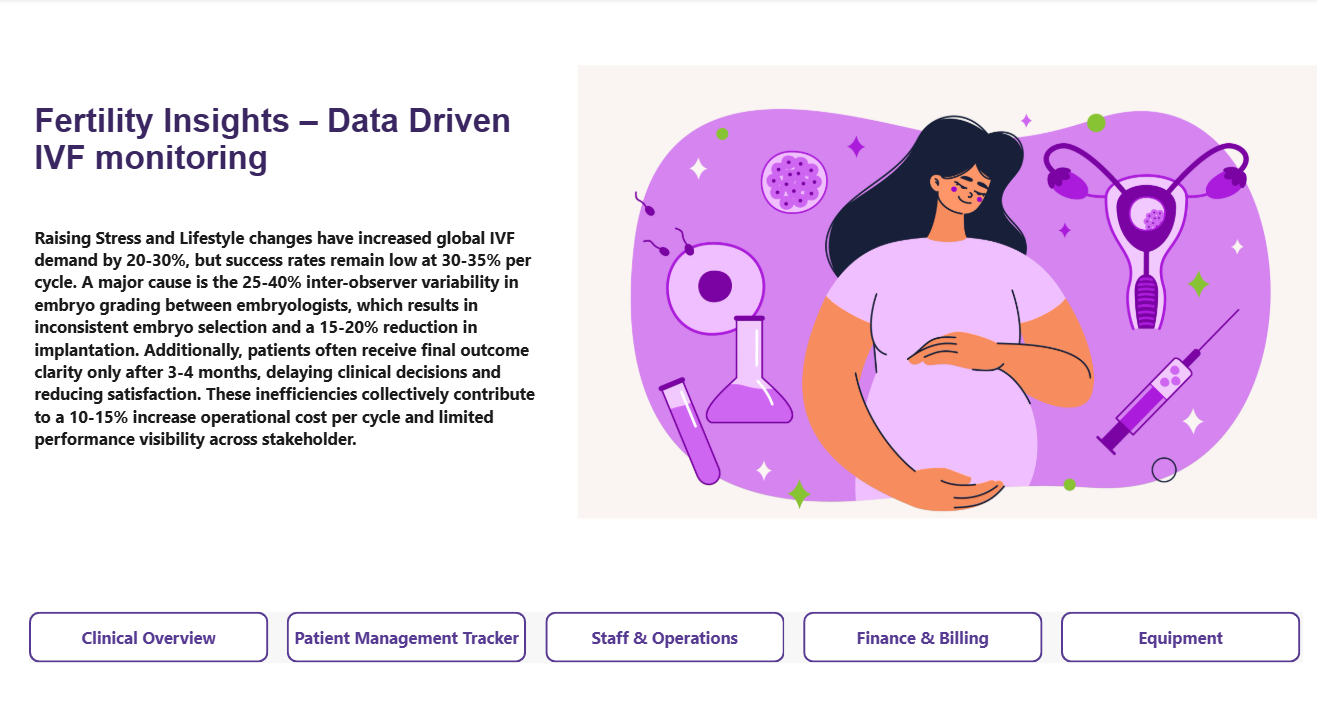

The page's visual inventory and layout, read from the dashboard file:
{"tool":"powerbi","page":{"name":"Home ","canvas":[1280,720],"ordinal":0},"visuals":[{"type":"image","box":[563.4,0,716.6,567],"z":0},{"type":"textbox","box":[33.8,214.7,497.1,505.5],"z":1000},{"type":"textbox","box":[33.8,95.3,497.1,119.4],"z":2000},{"type":"pageNavigator","box":[33.8,592.4,1229.4,49.5],"z":3000}]}

Visuals, with their boxes on the page's 1280x720 design canvas (x1, y1, x2, y2). These are canvas units, not pixel positions in the 1317x702 screenshot, which may show the page scaled, cropped or inside an application window:
image: (563,0,1280,567)
textbox: (34,215,531,720)
textbox: (34,95,531,215)
pageNavigator: (34,592,1263,642)
